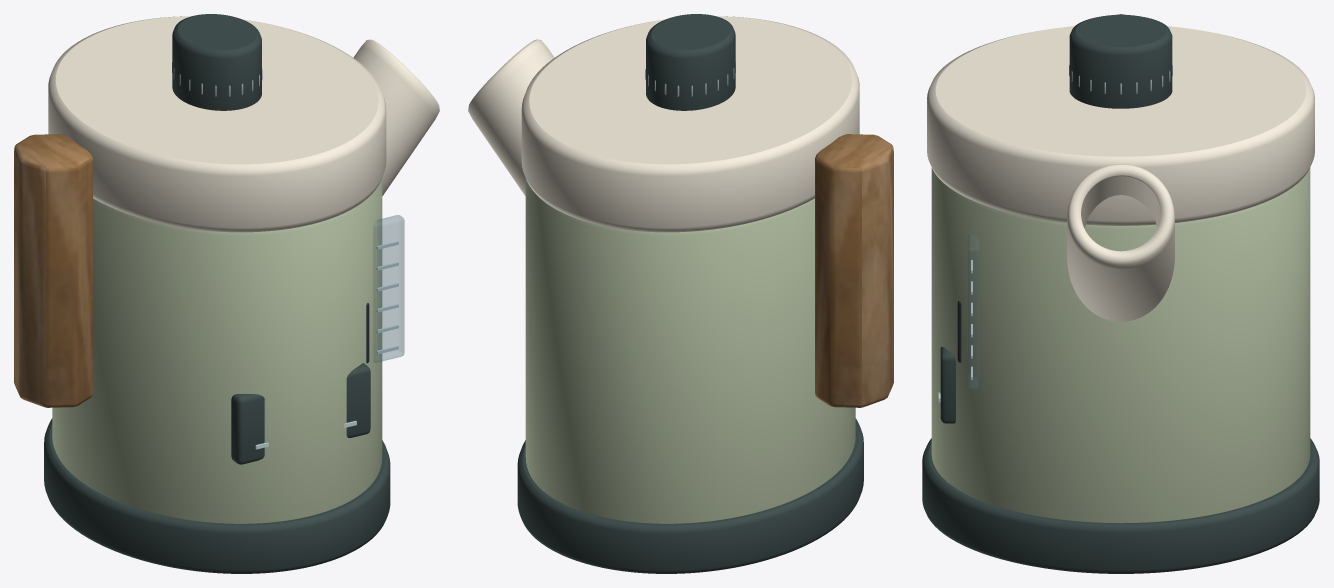
Rendered from electric-kettle.glb.
3 views of the same model, side by side, from view 1: azimuth 30°, elevation 25°; view 2: azimuth 150°, elevation 25°; view 3: azimuth 270°, elevation 25° (orthographic).
Visible parts, largest first — view 1: catalog_surface_RealismUV, catalog_surface_UVMap; view 2: catalog_surface_RealismUV, catalog_surface_UVMap; view 3: catalog_surface_RealismUV, catalog_surface_UVMap.
Part boxes in pixels (x1,y1,x2,y2): catalog_surface_RealismUV: (14,16,439,523); catalog_surface_UVMap: (44,14,404,573); catalog_surface_RealismUV: (468,16,893,523); catalog_surface_UVMap: (517,14,863,573); catalog_surface_RealismUV: (927,14,1314,523); catalog_surface_UVMap: (922,14,1319,573).
Size of the model in its own units: 0.23 by 0.25 by 0.19.
9 materials, 1 textured.
